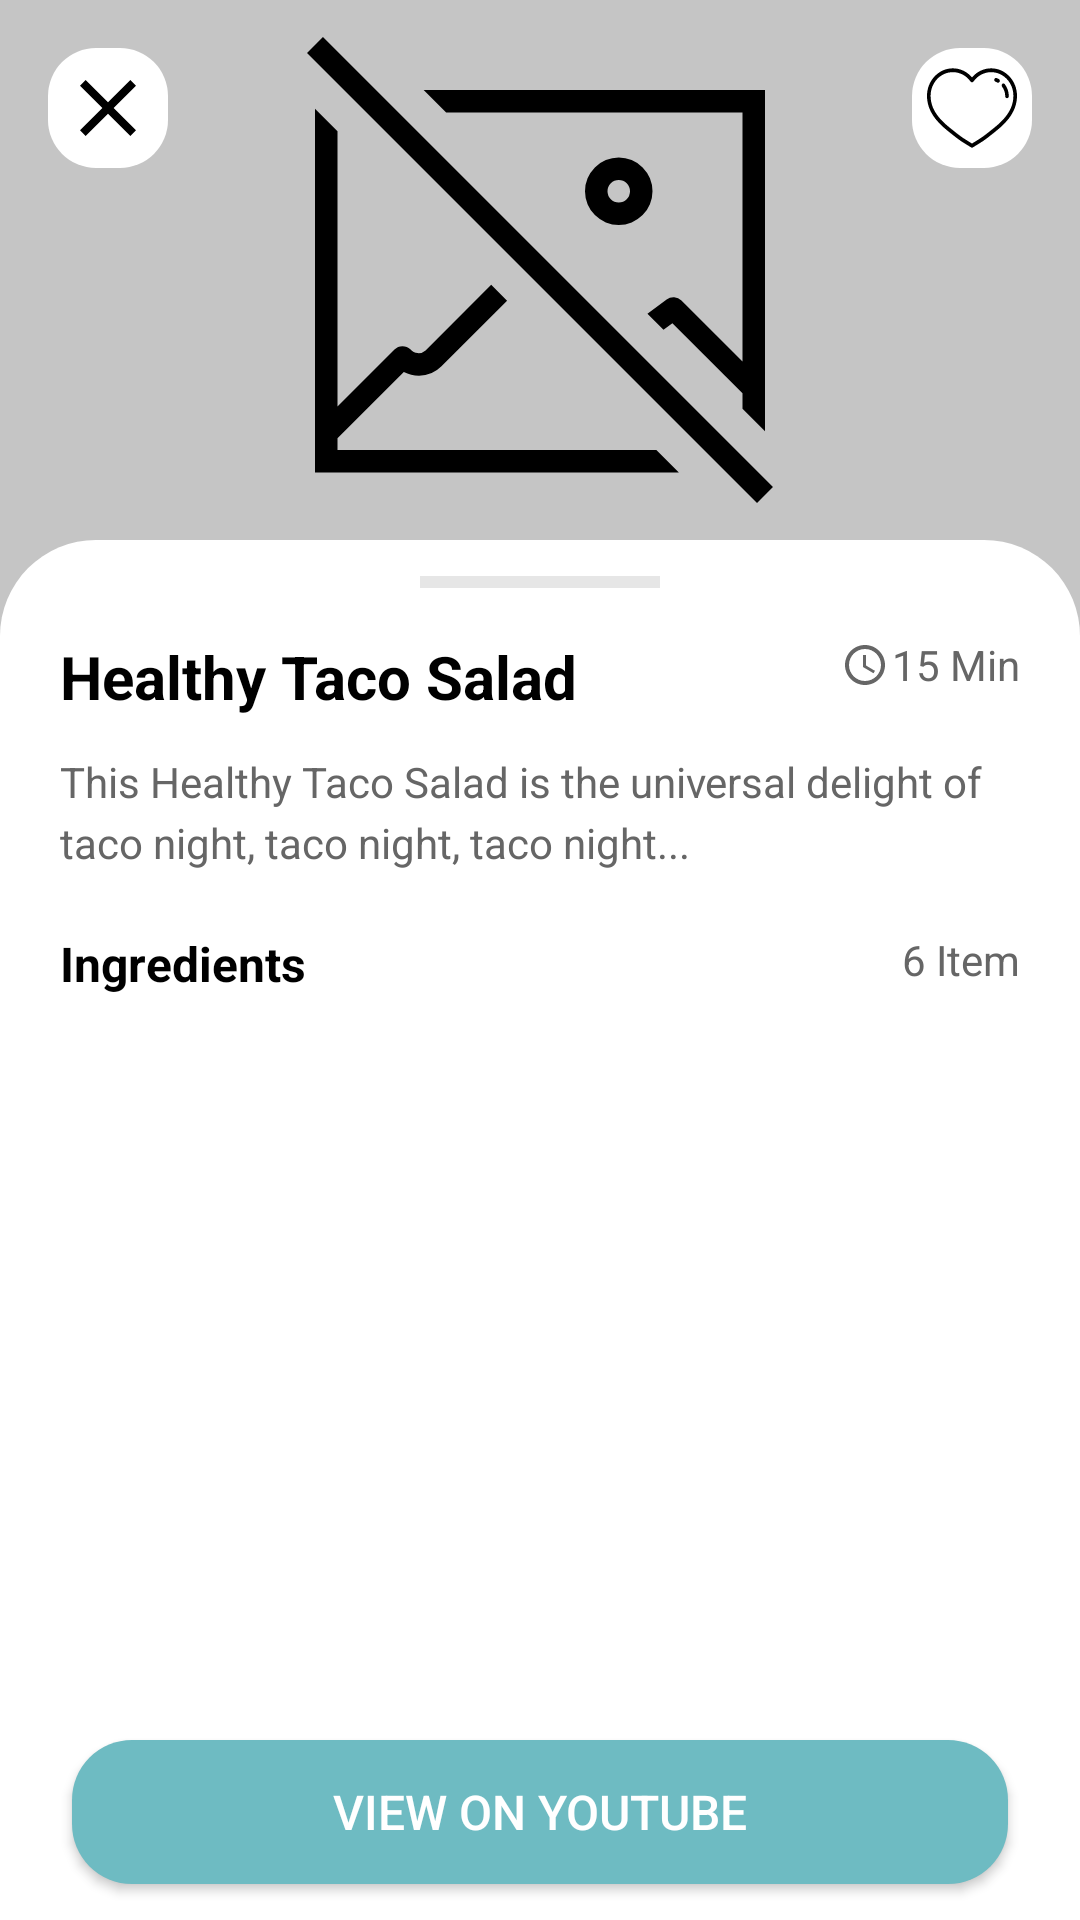

Point at icon controls on the screen. Image size 1080w x 1920h, points as [x,y].
access time: [865,665]
close: [108,108]
heart: [972,108]
